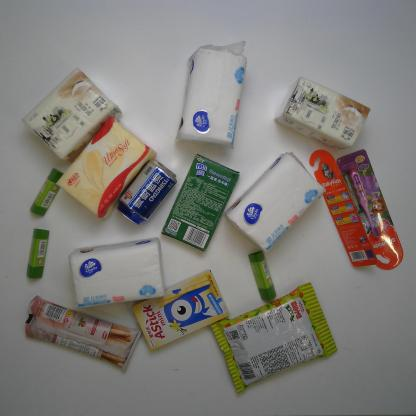Alcohol: (114, 155, 179, 228)
Dessert: (23, 292, 146, 377), (129, 267, 232, 355), (157, 152, 242, 255)
Personal Hygiene: (335, 148, 409, 274), (308, 147, 380, 271)
Puffed Food: (207, 280, 341, 396)
Stationery: (28, 162, 66, 219), (245, 249, 282, 302), (26, 226, 52, 282)
Tissue: (18, 62, 126, 169), (53, 113, 160, 221), (223, 150, 329, 254), (173, 40, 253, 152), (272, 74, 374, 152), (66, 236, 169, 311)
